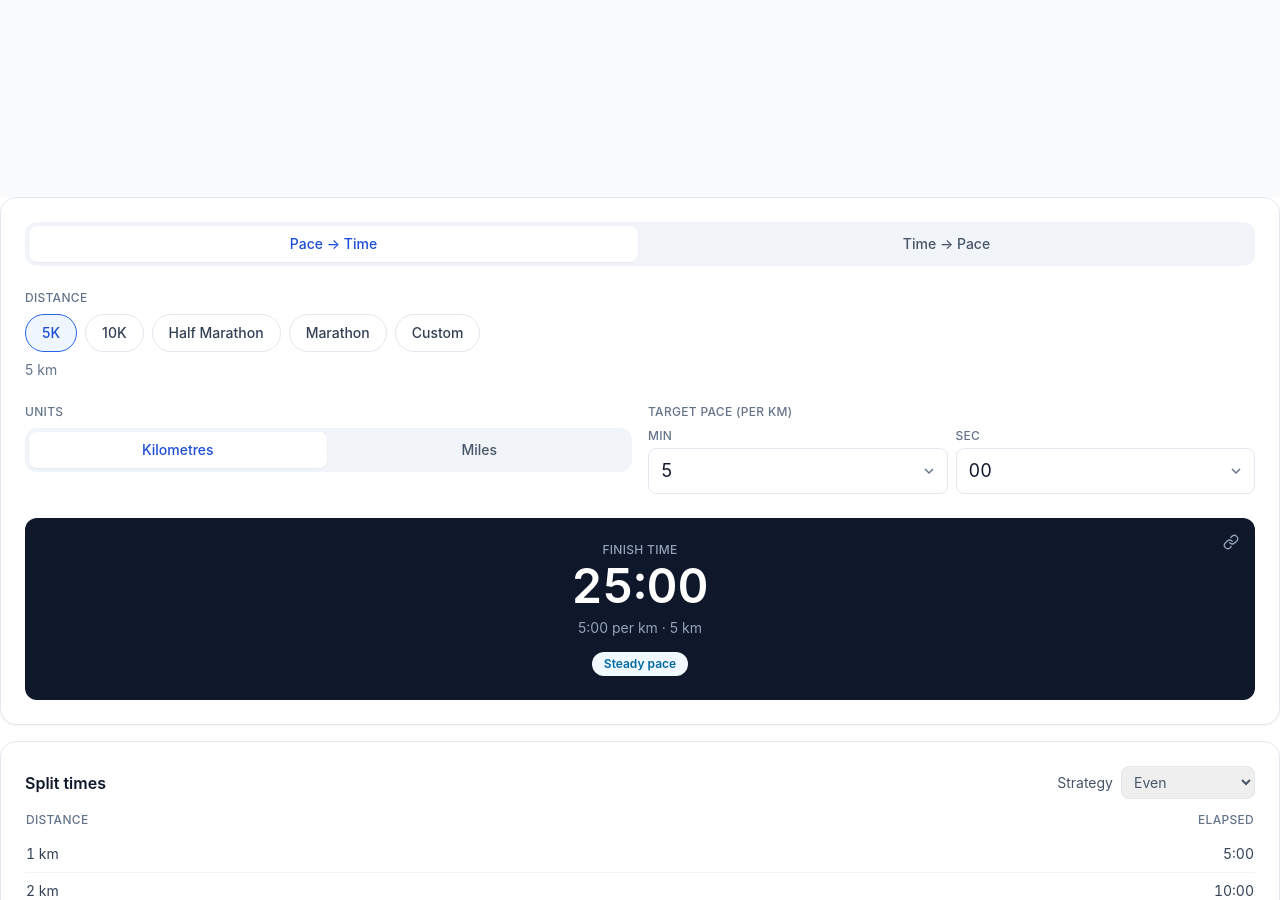
Test: custom distance across unit switches › converts a distance typed in miles
This screenshot has width=1280, height=900.
(page scrolled)
Click the radio button labelled "Miles" at [479, 450], box 330,432 -> 628,468
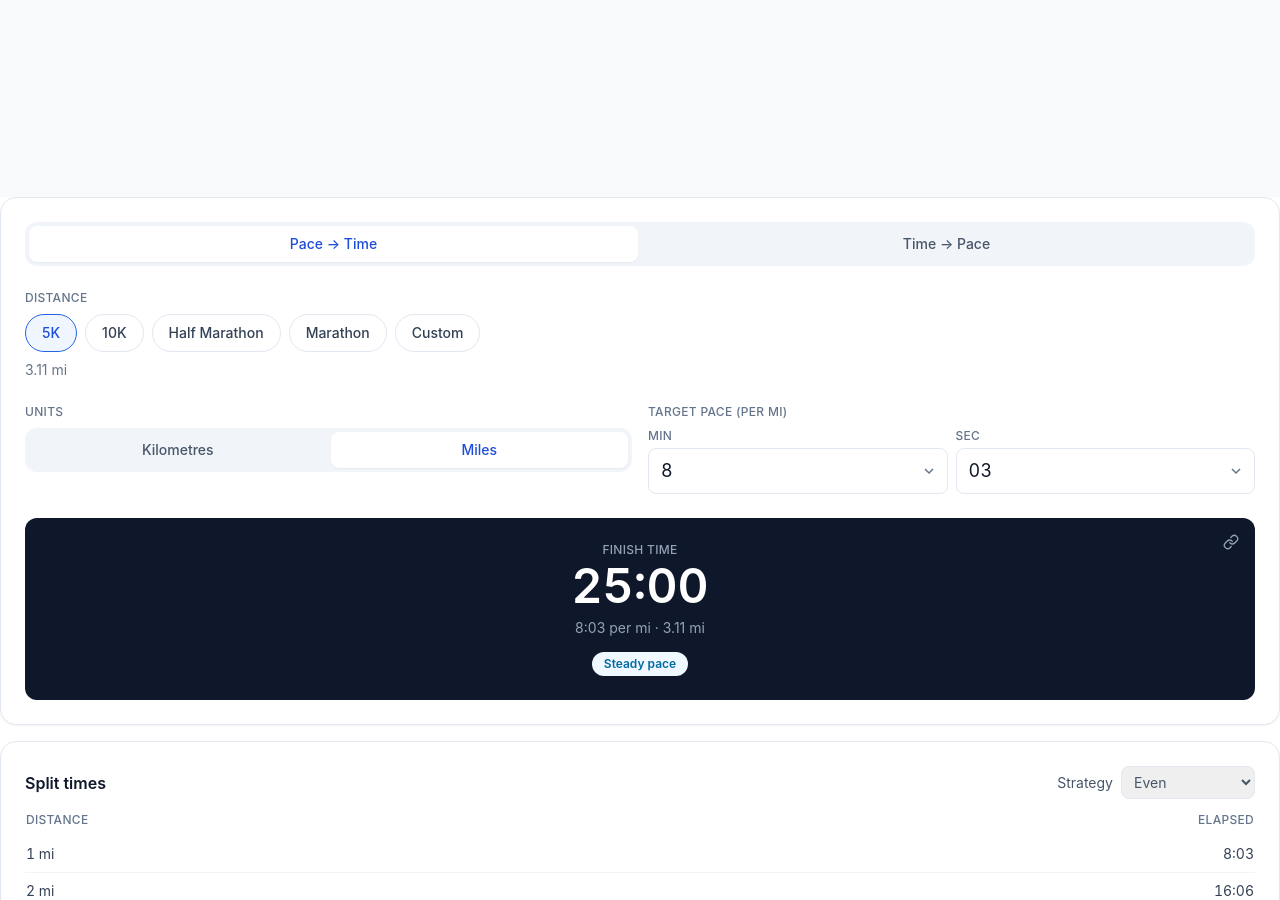
Click the radio button labelled "Custom" at [438, 333], box 395,314 -> 480,352
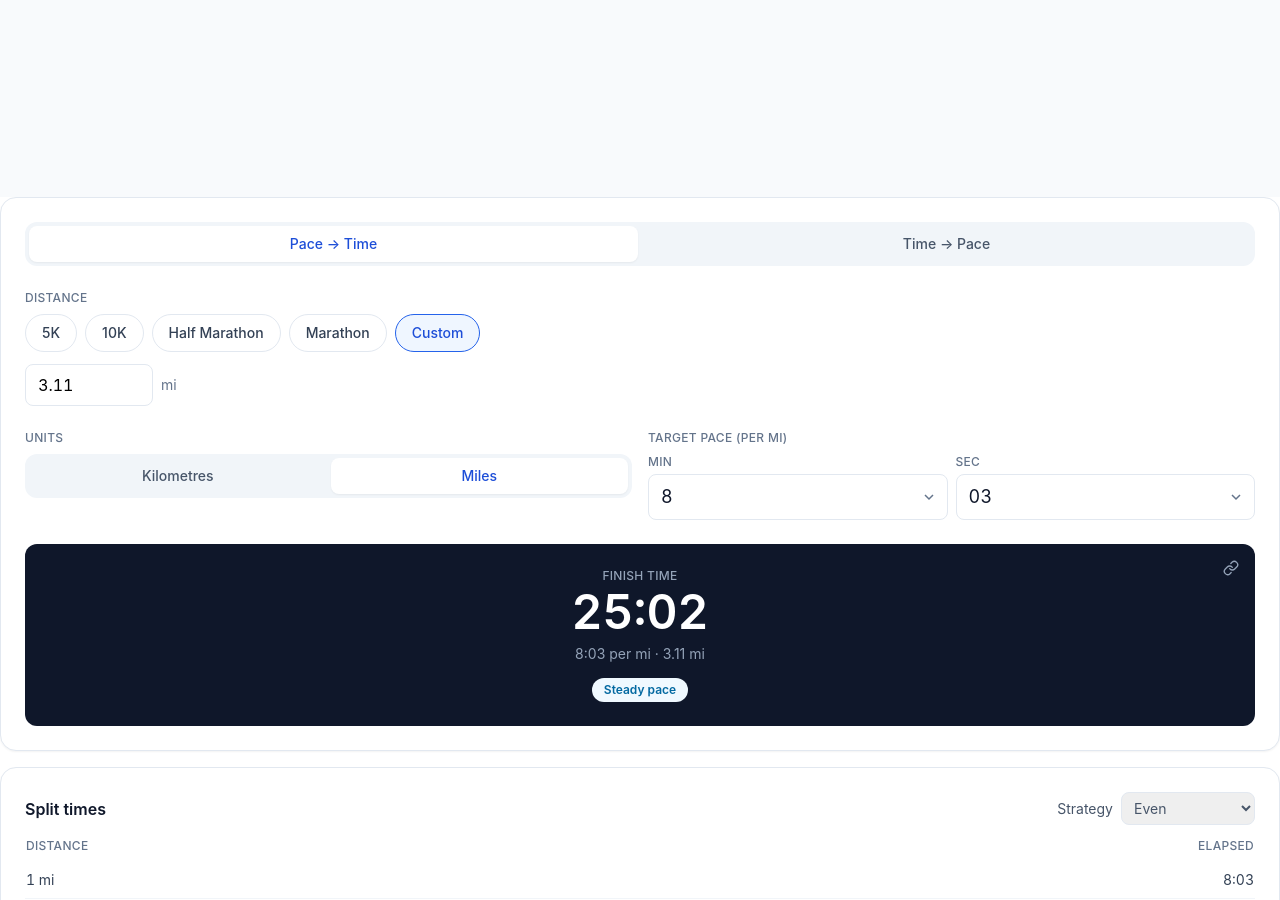
Replace the text in the number field named "Custom distance" with "26.2" at [89, 385], box 25,364 -> 153,406
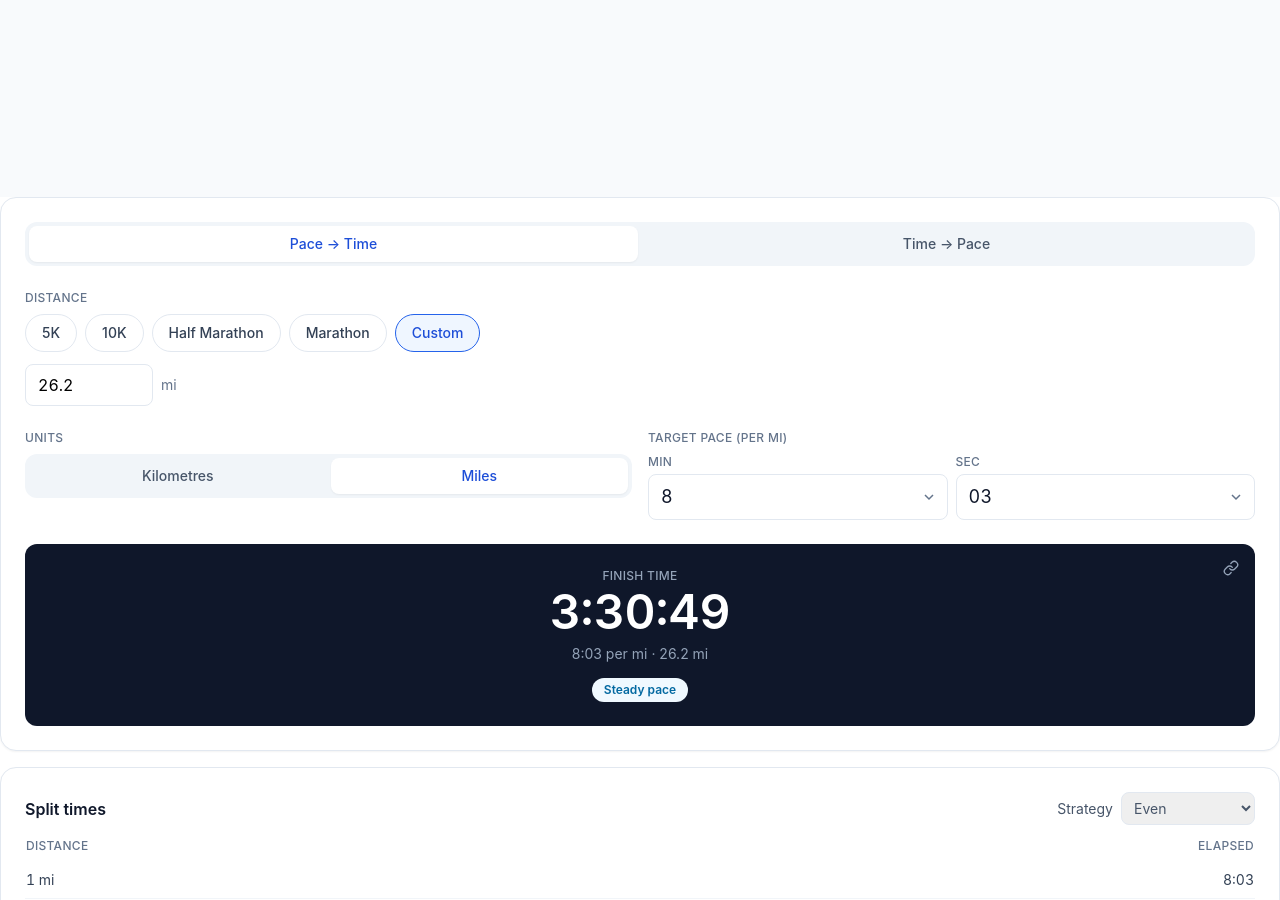
Click the radio button labelled "Kilometres" at [178, 476], box 29,458 -> 326,494
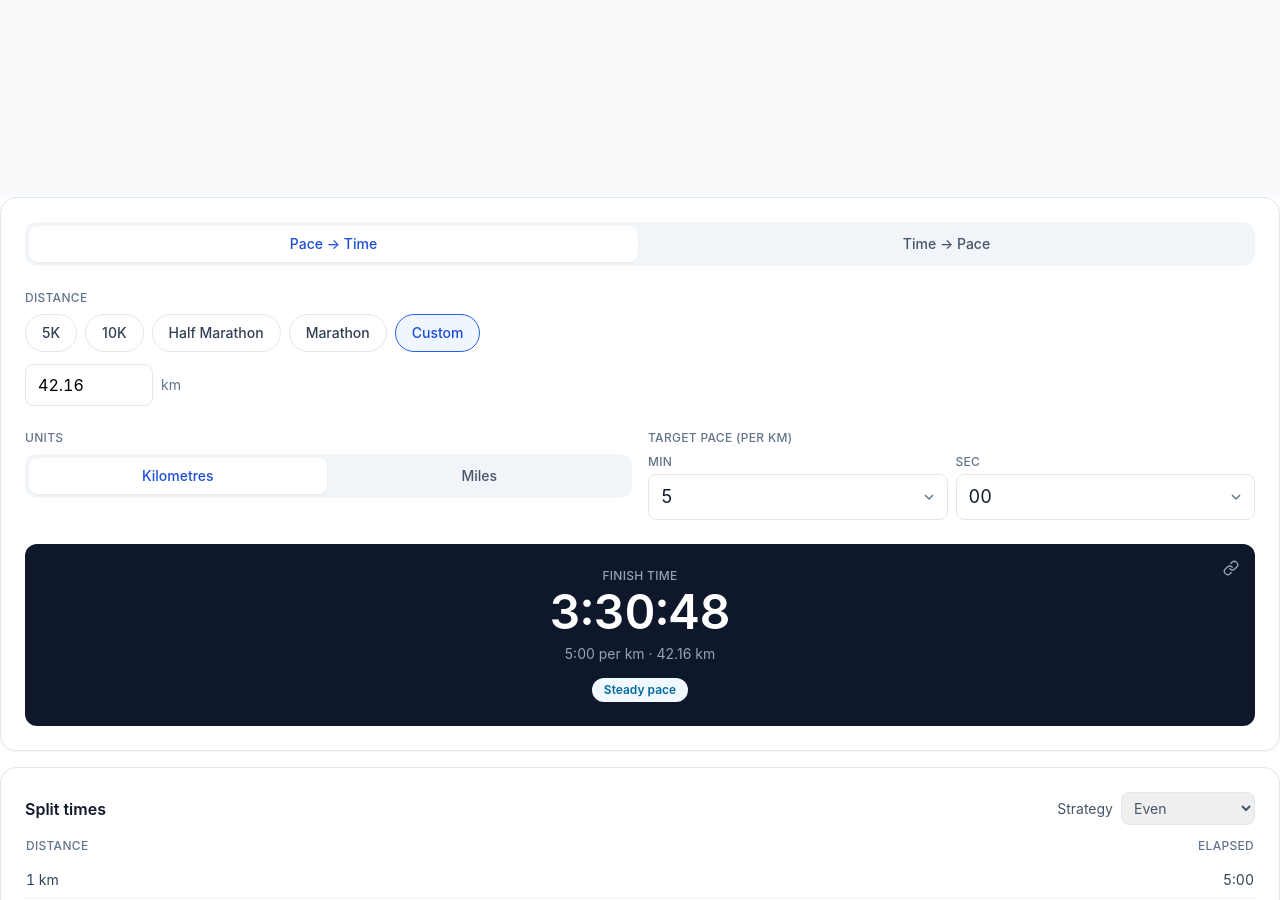
Result: the number field named "Custom distance" holds "42.16" at 25,364 -> 153,406
